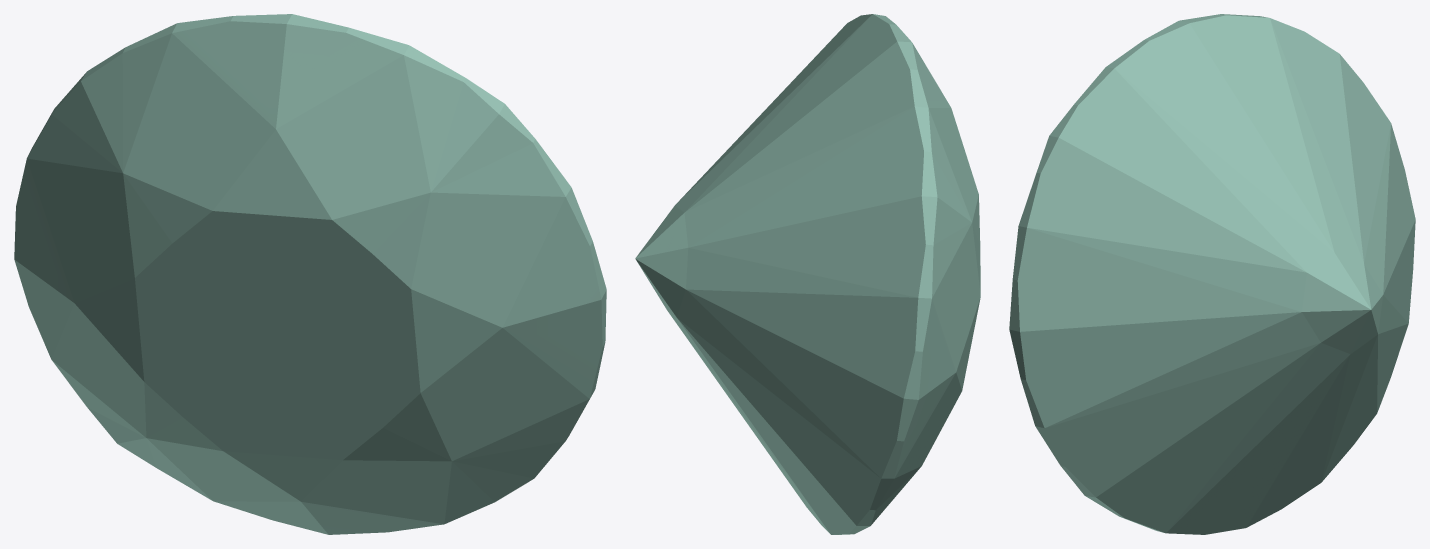
File: TL3_8shapes_Round_Classic_Stone.001 3.glb
The picture shows the model from 3 angles, left to right: view 1: azimuth 30°, elevation 25°; view 2: azimuth 150°, elevation 25°; view 3: azimuth 270°, elevation 25°; orthographic projection. The views are drawn at different scales.
Parts seen in each view (by area): view 1: TL3_8shapes_Round_Classic_Stone.001; view 2: TL3_8shapes_Round_Classic_Stone.001; view 3: TL3_8shapes_Round_Classic_Stone.001.
Boxes of the visible parts, x1,y1,x2,y2 form: TL3_8shapes_Round_Classic_Stone.001: [14, 14, 606, 534]; TL3_8shapes_Round_Classic_Stone.001: [635, 14, 980, 534]; TL3_8shapes_Round_Classic_Stone.001: [1009, 14, 1415, 534].
Size of the model in its own units: 0.3675 by 0.5251 by 0.4063.
